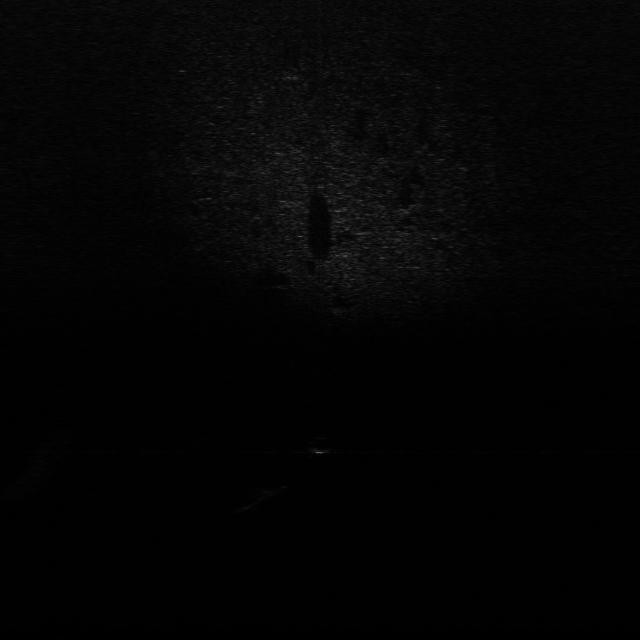ball: (303, 436, 339, 457)
square cage: (244, 482, 294, 502)
